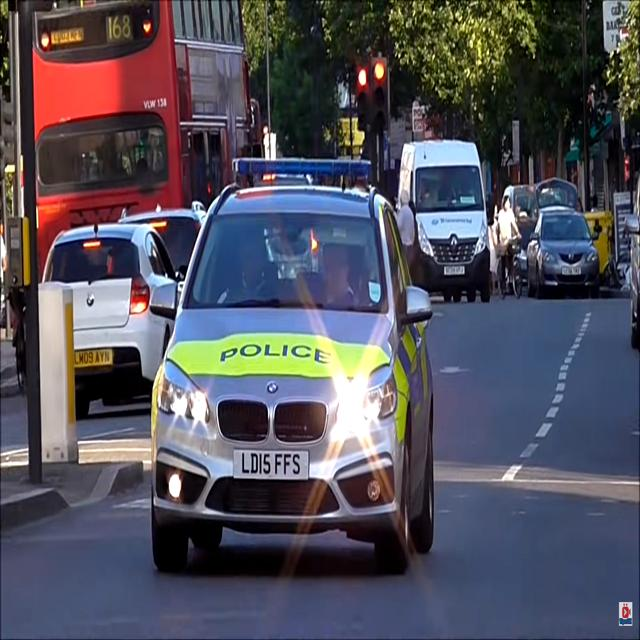emergency-vehicles: (135, 139, 451, 597)
